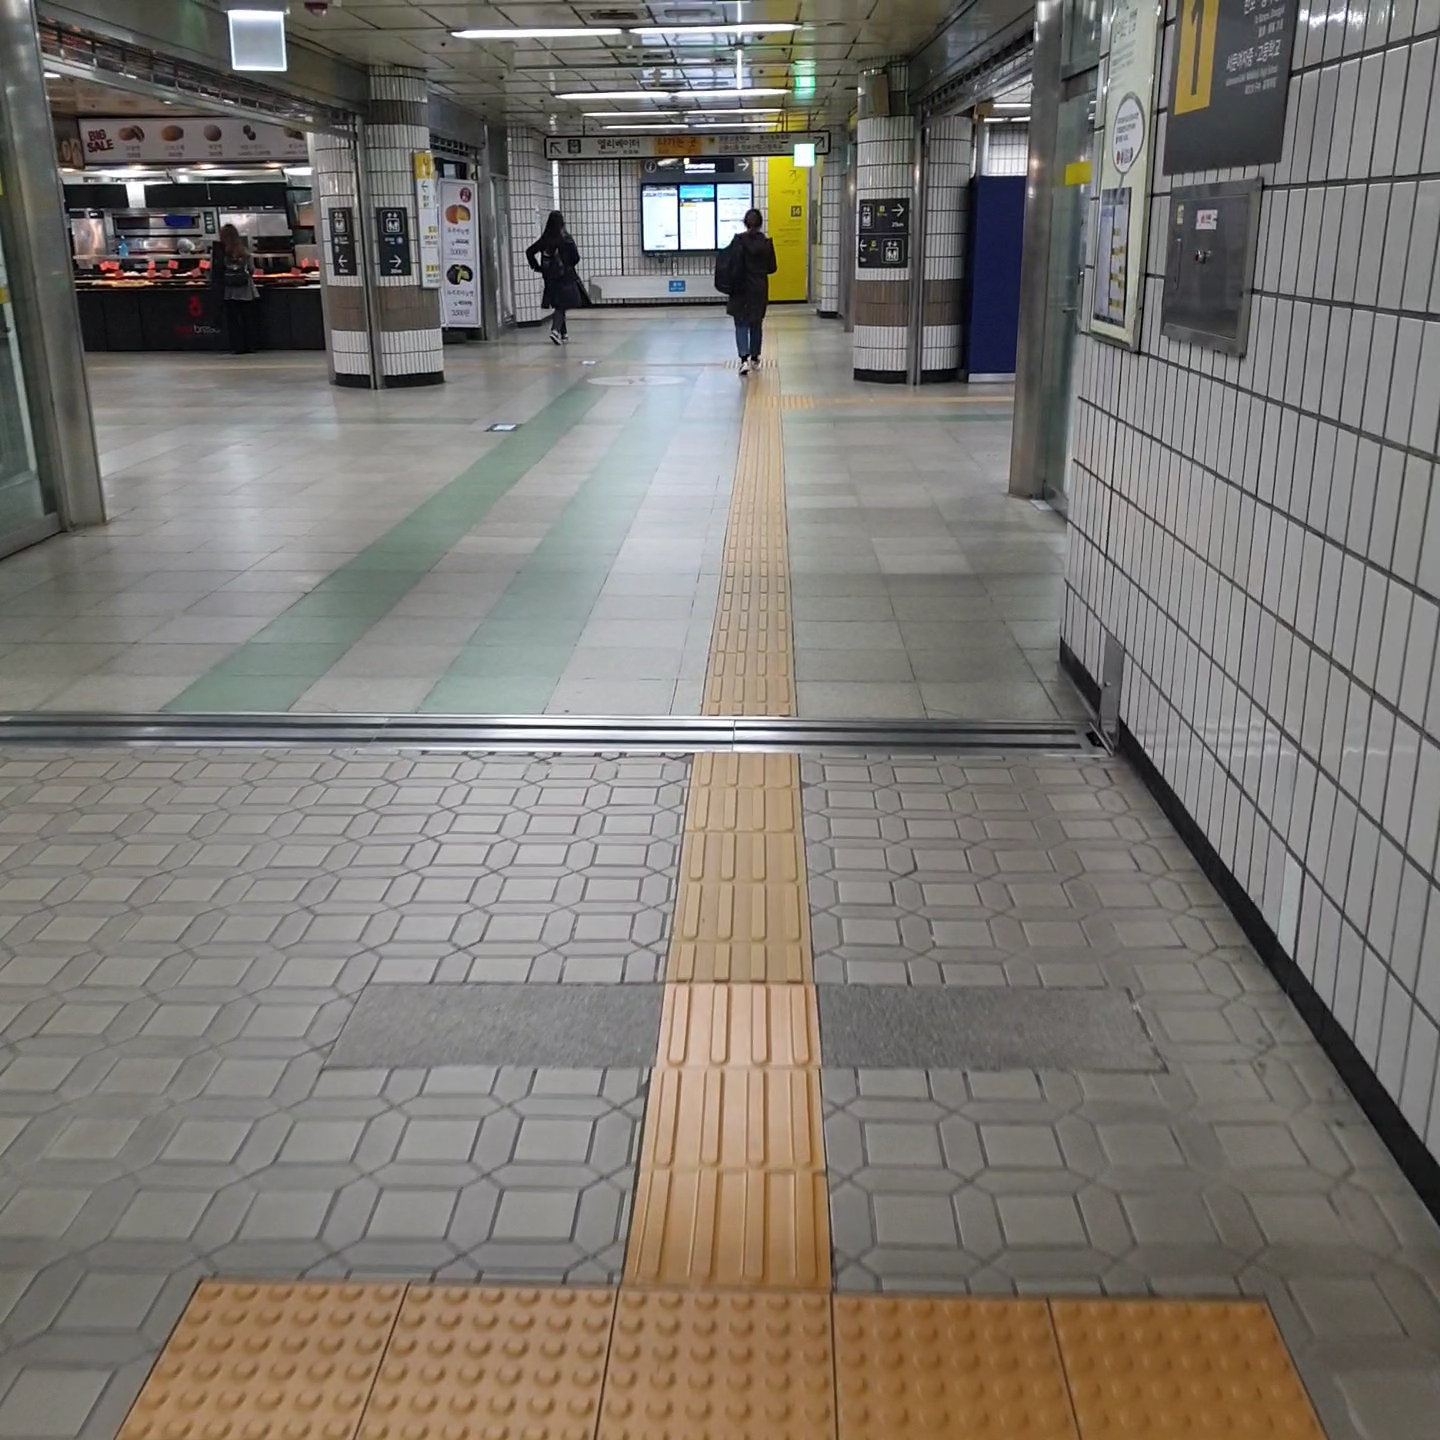dot: (1054, 1296, 1305, 1440), (833, 1294, 1062, 1440), (618, 1288, 837, 1435), (185, 1280, 367, 1440), (411, 1280, 583, 1440)
line: (641, 1163, 833, 1288), (651, 1065, 819, 1175), (662, 980, 815, 1065), (674, 884, 812, 972), (684, 824, 807, 884), (682, 785, 804, 832), (684, 754, 800, 793), (707, 675, 794, 717), (713, 645, 793, 680)
